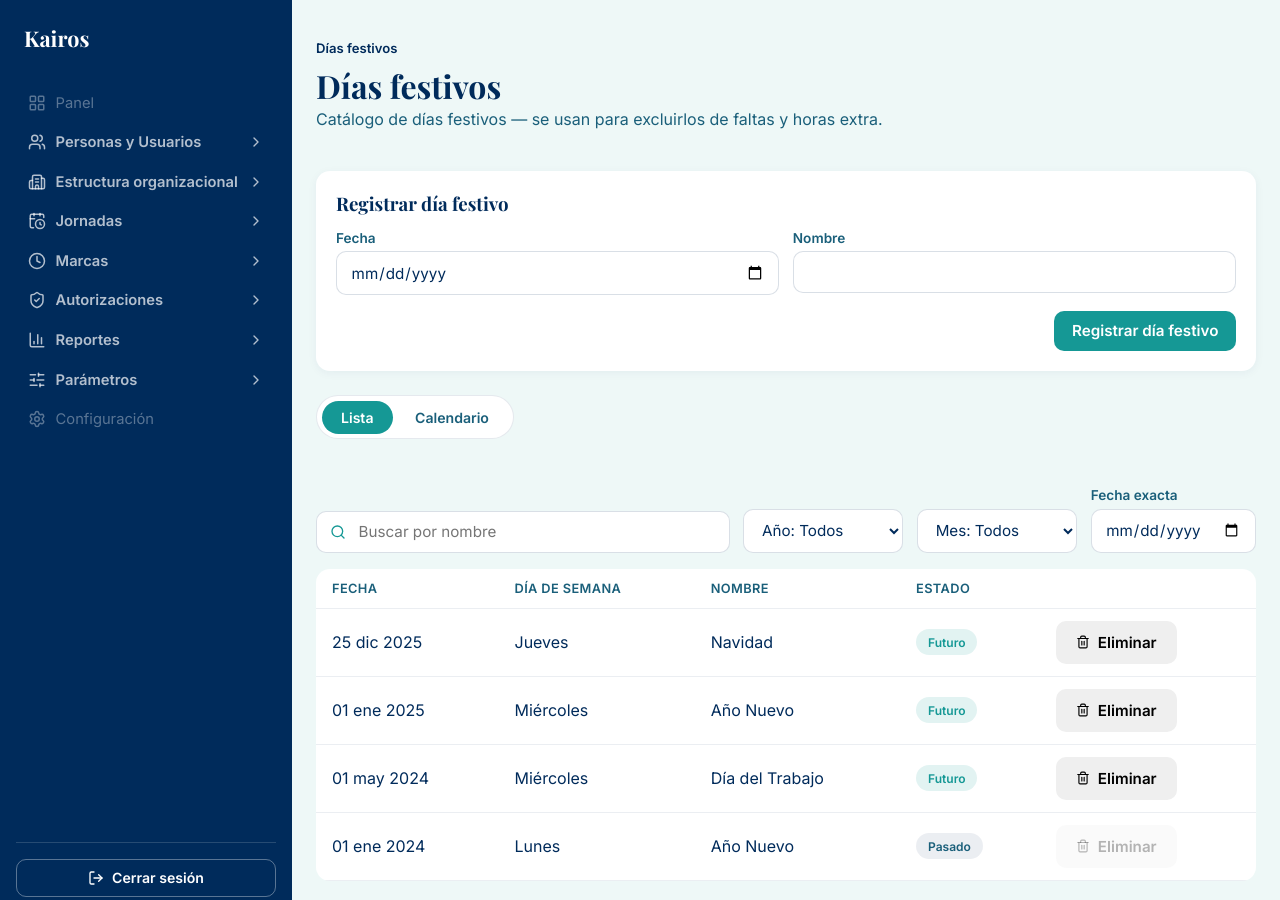
DiasFestivosPage › resalta la celda del festivo en la vista mensual
Expected: the text "Navidad" is shown, [695,608,900,676]
Click the tab "Calendario" at [452, 417], box [396,400,508,434]
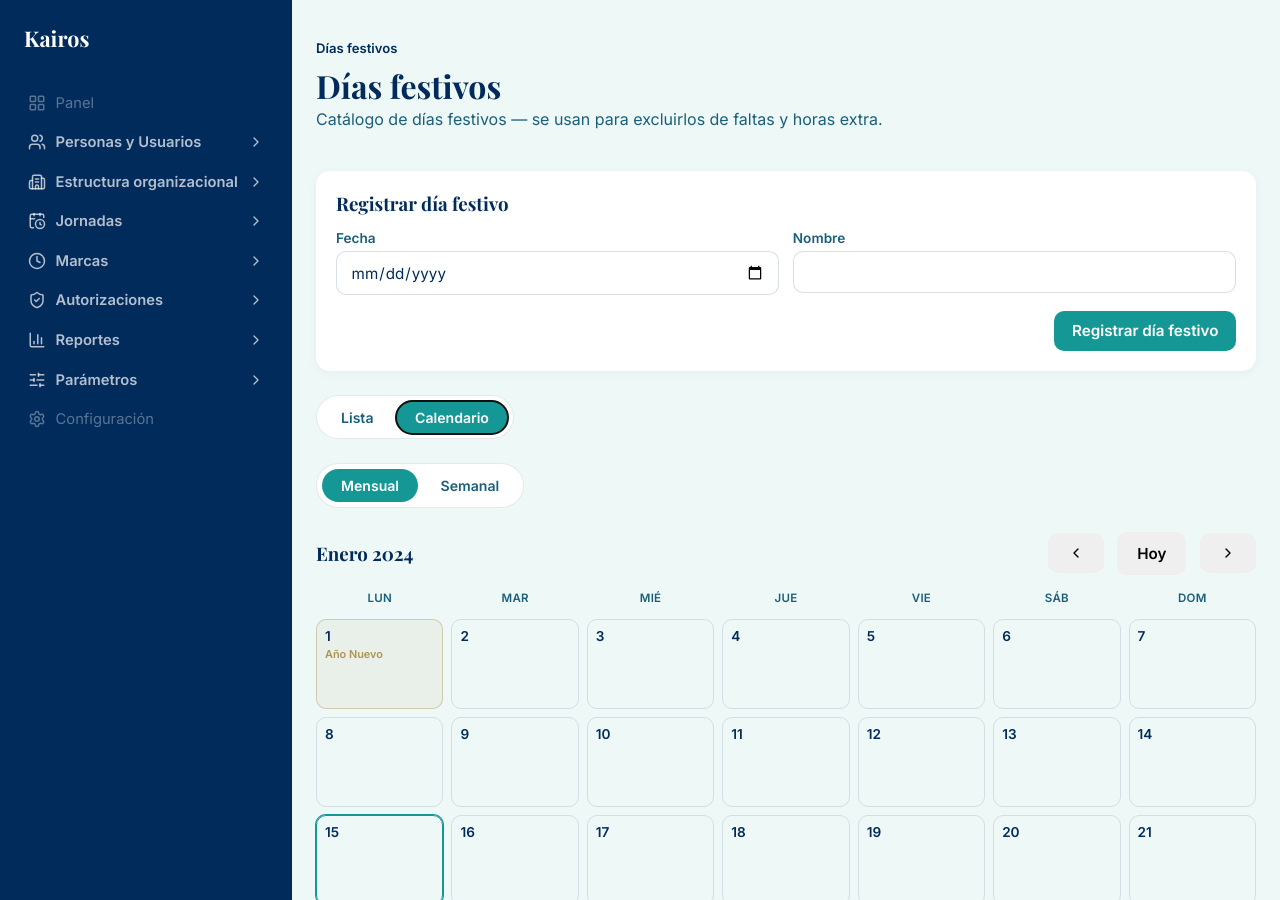
Expected: the heading "Enero 2024" is shown, [316,541,413,566]
Expected: the text "1" is shown, [325,628,331,644]
